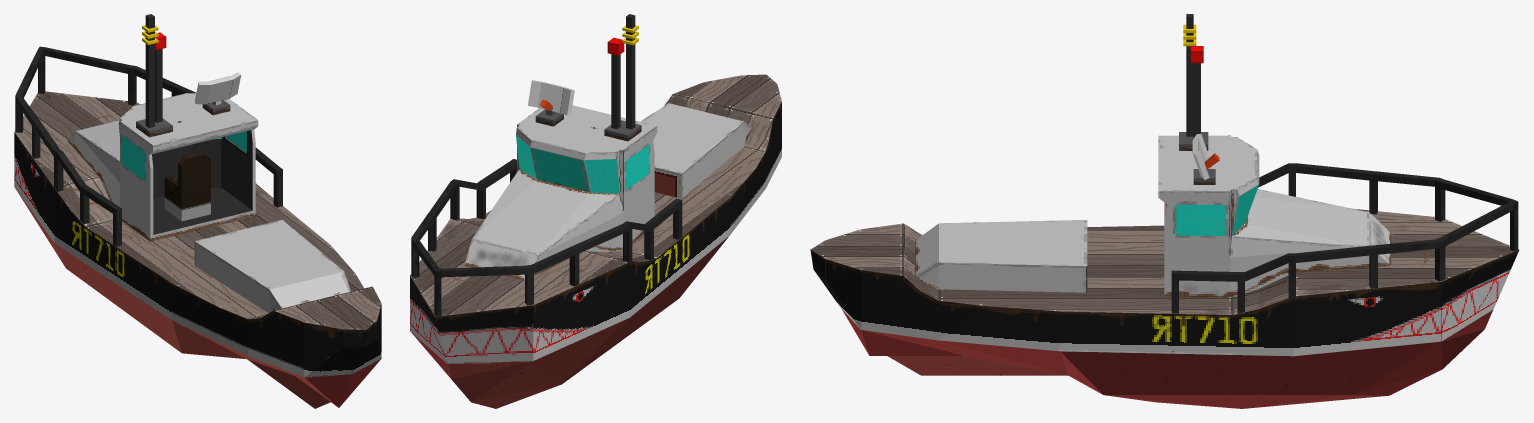
Rendered from boat.gltf.
3 renders of one model, left to right at view 1: azimuth 30°, elevation 25°; view 2: azimuth 150°, elevation 25°; view 3: azimuth 270°, elevation 25°, orthographic. The views are drawn at different scales.
Parts seen in each view (by area): view 1: Basic Shell, Cockpit, Back part, cuboid, Chair, Tall Antenna, Dish, Antenna, Antenna Base; view 2: Basic Shell, Cockpit, cuboid, Back part, Dish, Tall Antenna, Antenna, Antenna Base; view 3: Basic Shell, Cockpit, Back part, cuboid, Tall Antenna, Antenna, Dish.
Boxes of the visible parts, x1,y1,x2,y2 form: Basic Shell: (14,91,381,408); Cockpit: (67,93,258,241); Back part: (194,219,350,313); cuboid: (15,46,282,246); Chair: (164,152,210,215); Tall Antenna: (142,14,158,127); Dish: (195,72,241,105); Antenna: (155,32,166,122); Antenna Base: (136,118,172,137); Basic Shell: (410,74,781,408); Cockpit: (464,105,657,280); cuboid: (411,159,682,316); Back part: (640,103,751,198); Dish: (528,80,574,115); Tall Antenna: (622,14,638,129); Antenna: (607,37,624,129); Antenna Base: (604,120,641,141); Basic Shell: (810,208,1519,408); Cockpit: (1158,135,1391,297); Back part: (915,219,1087,292); cuboid: (1171,163,1518,313); Tall Antenna: (1183,14,1196,136); Antenna: (1190,46,1203,137); Dish: (1192,133,1219,179).
Bounding box in the file's own units: 1.89 × 3.5 × 6.05.
Materials: 1 (1 with a texture image).
